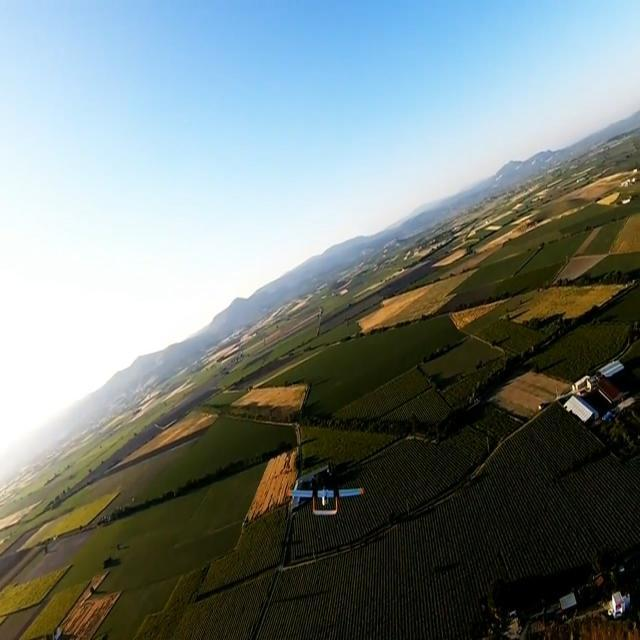iha: (315, 478, 334, 517)
